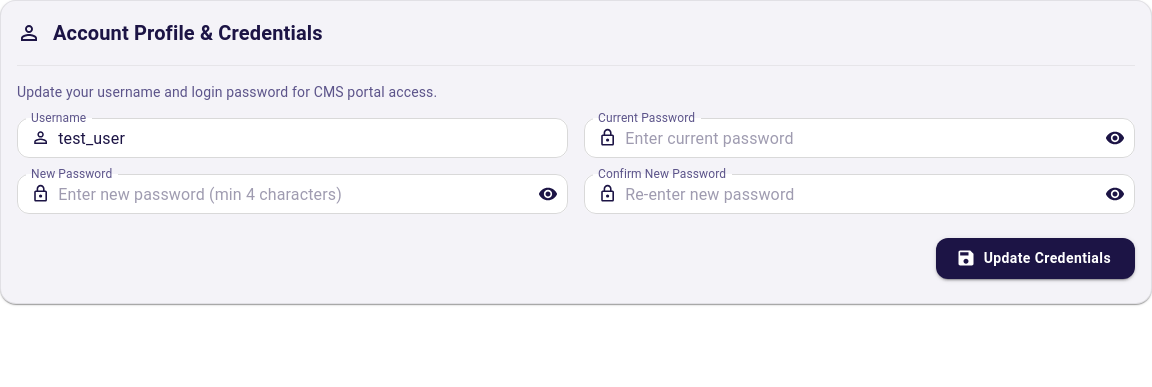
Scenario: AccountSettingsCard Component › displays error when username is cleared
Step 1. Clear the field with placeholder "Enter username" → {"x": 313, "y": 138}, box [58, 118, 568, 158]
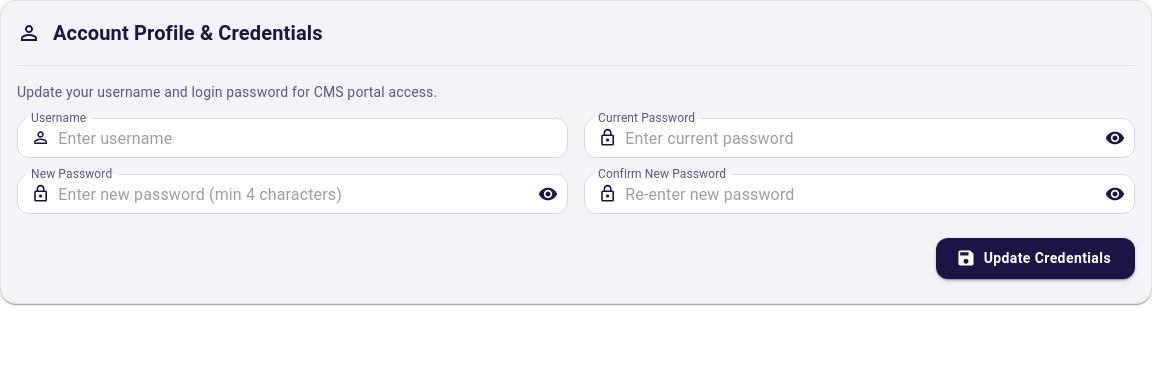
Step 2. Click the button "Update Credentials" → {"x": 1035, "y": 258}, box [936, 238, 1135, 278]
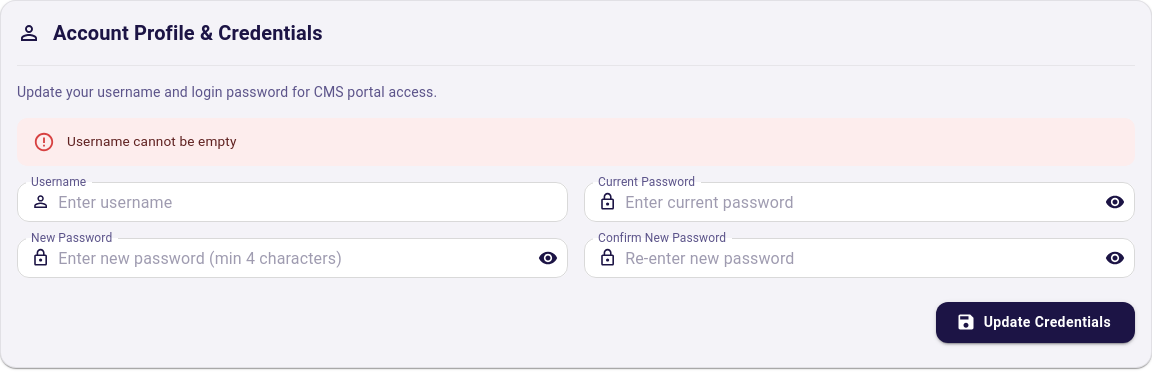
Expected: the text "Username cannot be empty" is shown, [67, 133, 236, 149]
